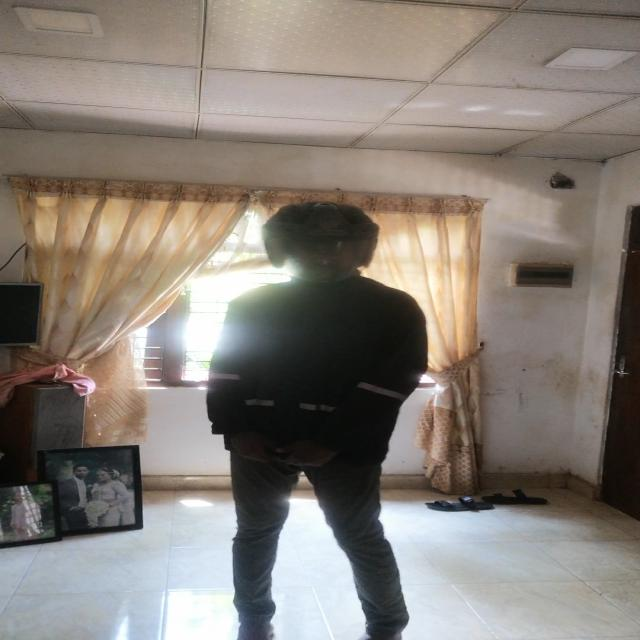Helmet_Wearer: (247, 196, 397, 296)
Jacket_Wearer: (209, 282, 443, 496)
Person: (198, 190, 418, 640)
